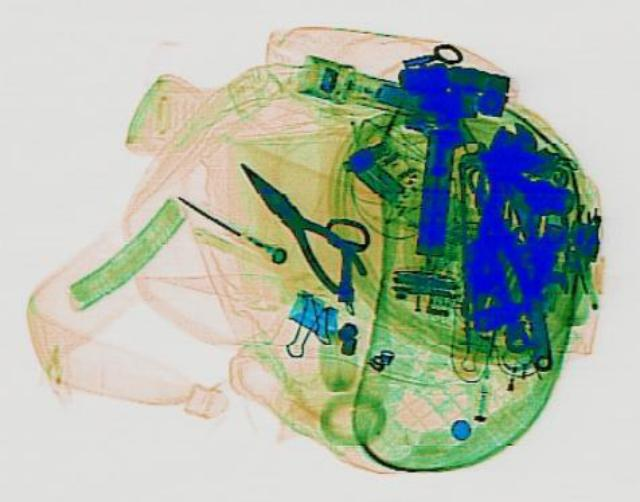Pliers: (216, 149, 374, 293)
Wrench: (482, 119, 568, 371)
